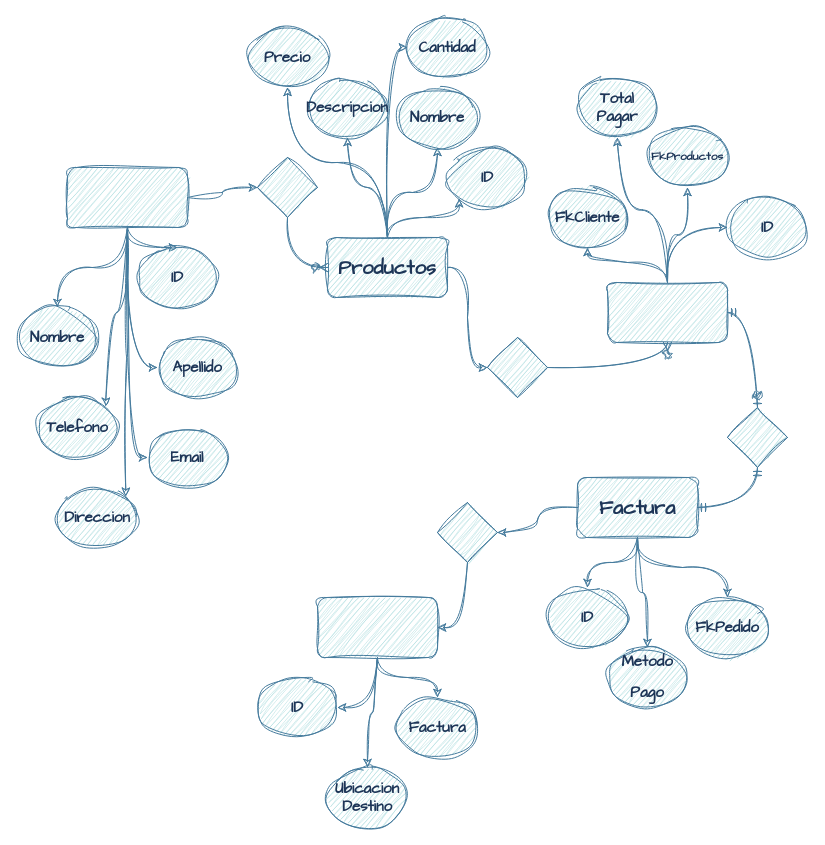
Some shapes in this 825 by 845 pixel diagram are drawn without their labels. Here are the shapes that lost their labels. From the top down, the centre of each, then its label:
At (x=127, y=197): "Cliente".
At (x=287, y=187): "Selecciona".
At (x=667, y=312): "Pedido".
At (x=517, y=367): "Realiza".
At (x=757, y=437): "Genera".
At (x=467, y=532): "Entrega".
At (x=377, y=627): "Transporte".
